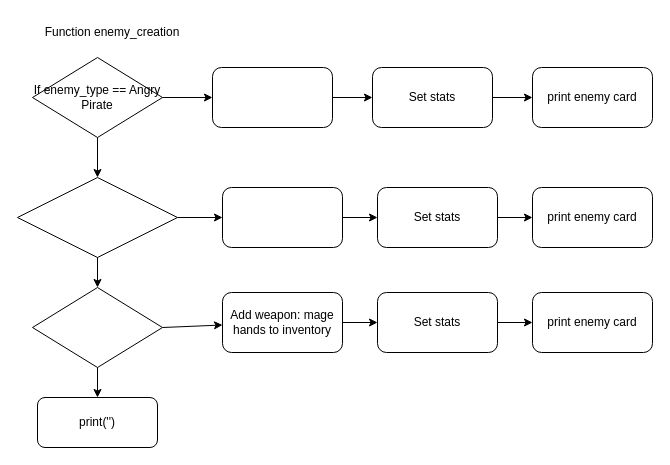
This 670x465 diagram has some shape labels left out. The shapes that lost their labels are listed below. From the top down, each one's centre as x and y in pixels, then its label:
the point at 272,97: Add weapon: cutlass to inventory
the point at 97,217: If enemy_type == Sirens
the point at 282,217: Add weapon: Magic pearl to inventory
the point at 97,327: If enemy_type == Siren sisters
